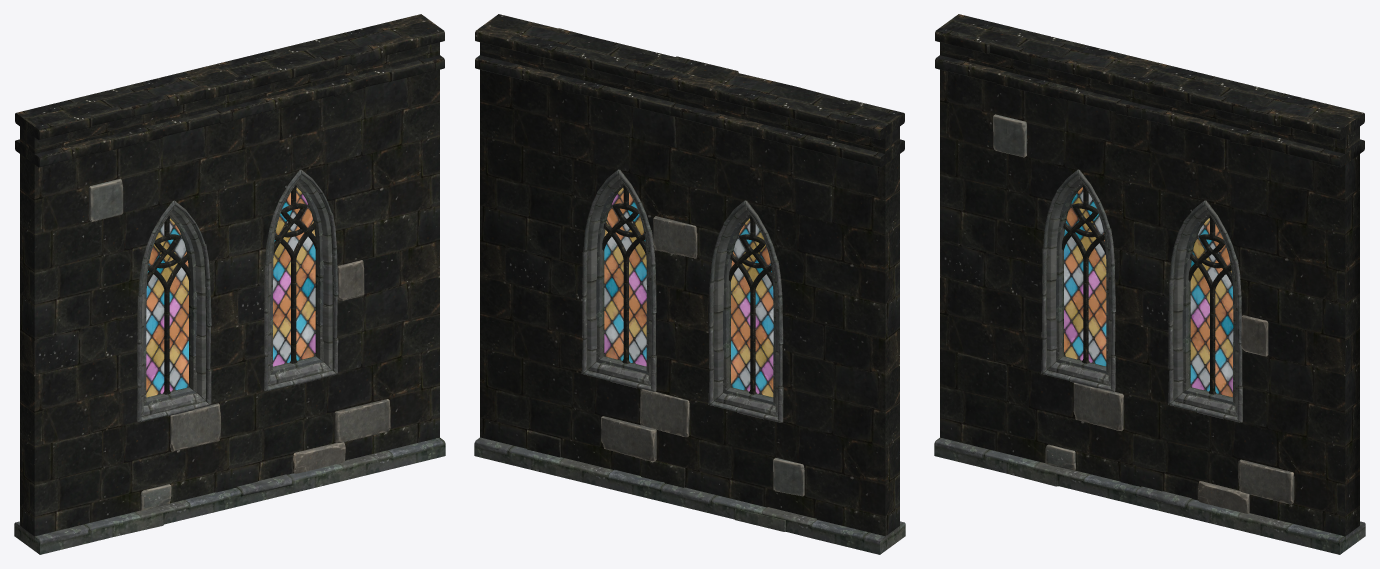
The picture shows the model from 3 angles, left to right: view 1: azimuth 30°, elevation 25°; view 2: azimuth 150°, elevation 25°; view 3: azimuth 330°, elevation 25°; orthographic projection.
Visible parts, largest first — view 1: SM_DeathTemple_Window_8x8_02_v1_LOD0; view 2: SM_DeathTemple_Window_8x8_02_v1_LOD0; view 3: SM_DeathTemple_Window_8x8_02_v1_LOD0.
Part boxes in pixels (bbox=[...]): SM_DeathTemple_Window_8x8_02_v1_LOD0: bbox=[14, 14, 445, 554]; SM_DeathTemple_Window_8x8_02_v1_LOD0: bbox=[474, 14, 905, 554]; SM_DeathTemple_Window_8x8_02_v1_LOD0: bbox=[934, 14, 1365, 554].
Size of the model in its own units: 8 by 8.02 by 0.9214.
4 materials, 4 textured.
